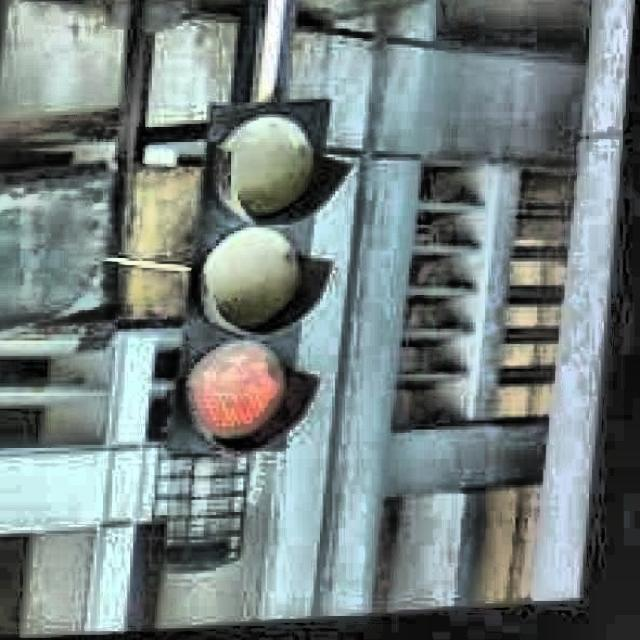red: (195, 91, 328, 446)
